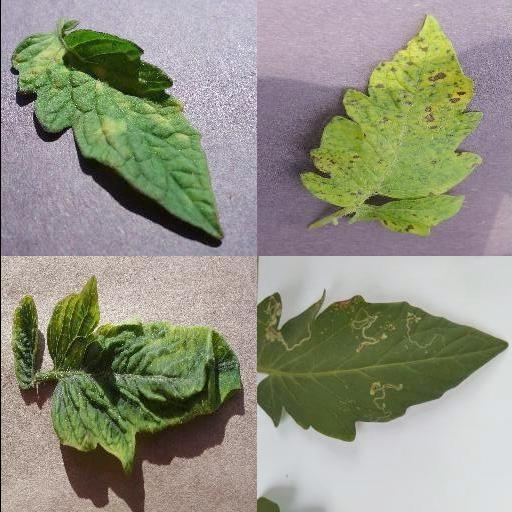Leaf Miner: (256, 291, 508, 443)
Leaf Mold: (8, 30, 224, 241)
Septoria: (301, 12, 483, 236)
Yellow Leaf Curl Virus: (48, 272, 242, 472), (9, 298, 45, 389)
